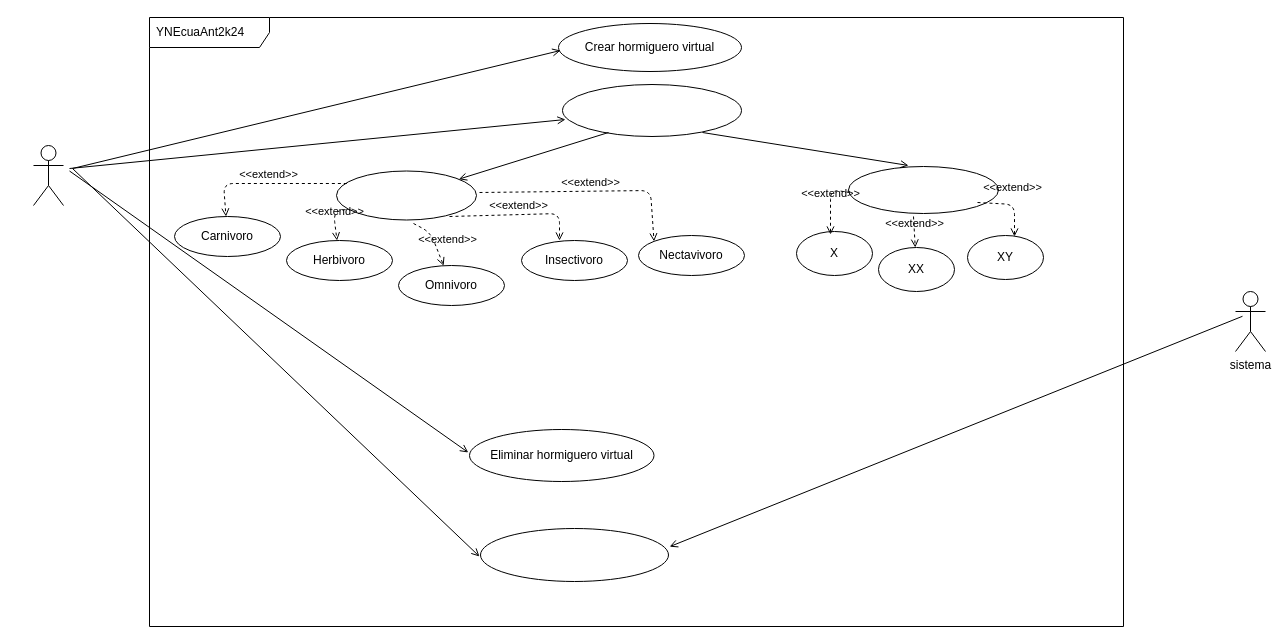
Some shapes in this 1288 by 644 pixel diagram are drawn without their labels. Here are the shapes that lost their labels. From the top down, the centre of each, then its label:
(x=652, y=110): Alimentar hormiguero virtual
(x=48, y=175): entomologo
(x=406, y=195): IngestaNativa
(x=923, y=190): GenoAlimento
(x=574, y=555): Guardar hormiguero virtual en archivo.csv
